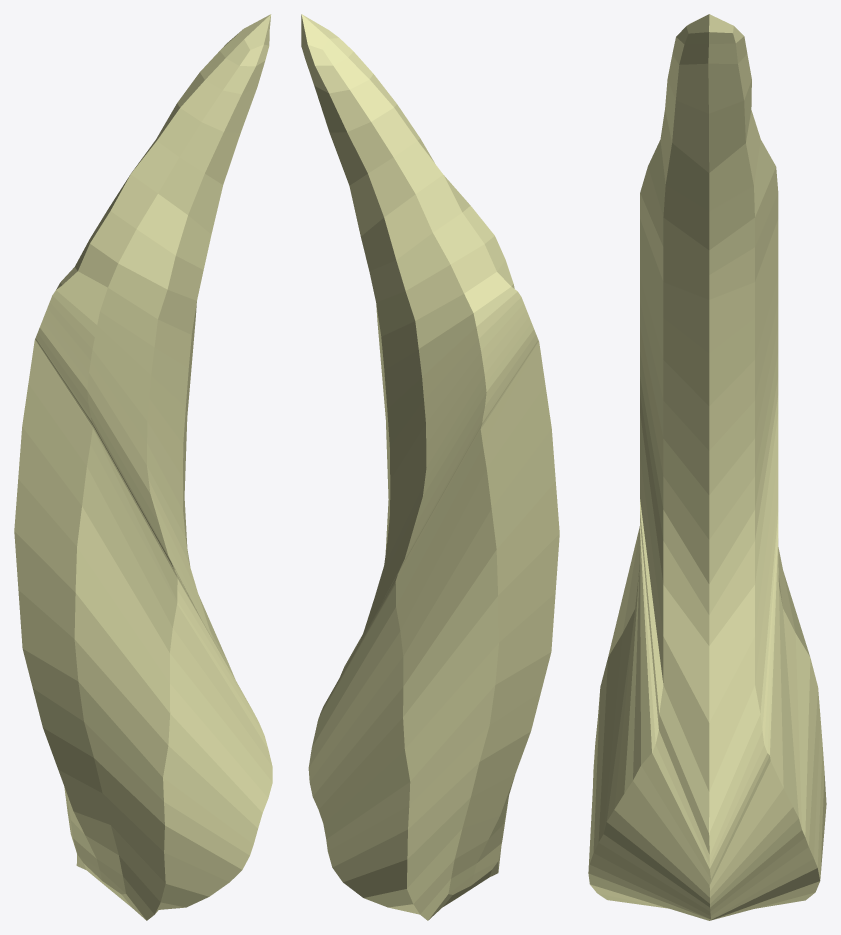
Rendered from ArneTooth.fbx.
The picture shows the model from 3 angles, left to right: view 1: azimuth 30°, elevation 25°; view 2: azimuth 150°, elevation 25°; view 3: azimuth 270°, elevation 25°; orthographic projection. The views are drawn at different scales.
Visible parts, largest first — view 1: Cube; view 2: Cube; view 3: Cube.
Part boxes in pixels (x1=…): Cube: x1=14, y1=14, x2=272, y2=920; Cube: x1=301, y1=14, x2=559, y2=920; Cube: x1=588, y1=14, x2=826, y2=920.
Size of the model in its own units: 48.89 by 153 by 34.22.
